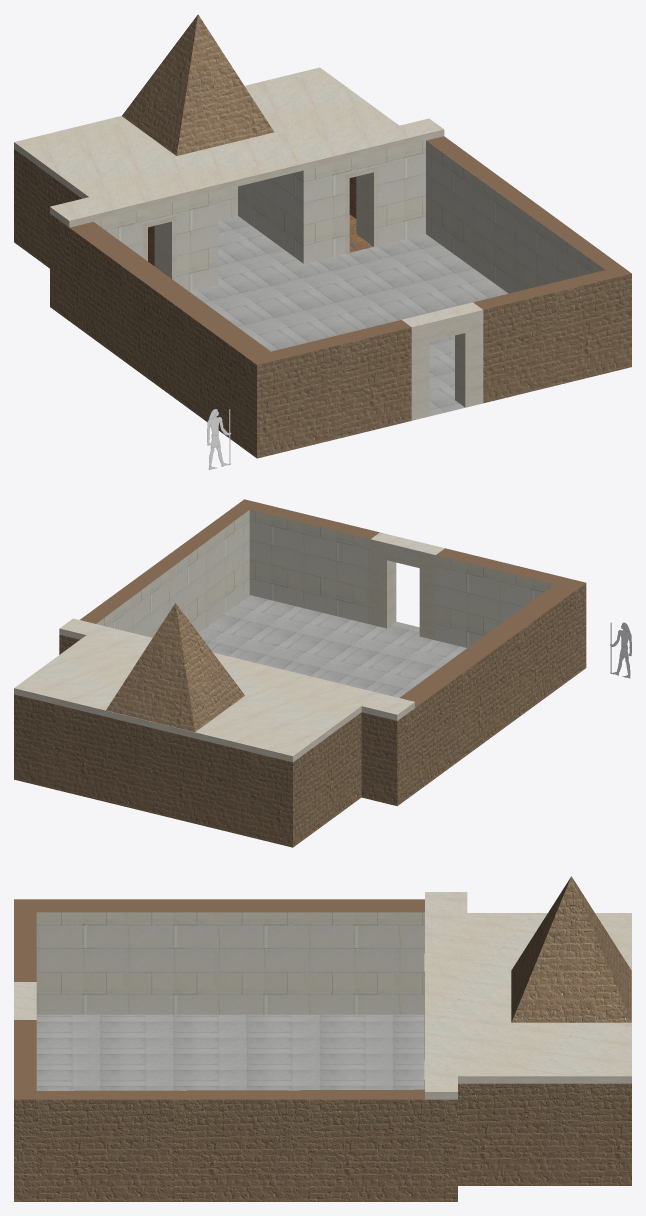
Rendered from Tomb3.obj.
The picture shows the model from 3 angles, top to bottom: view 1: azimuth 30°, elevation 25°; view 2: azimuth 150°, elevation 25°; view 3: azimuth 270°, elevation 25°; orthographic projection. The views are drawn at different scales.
Parts seen in each view (by area): view 1: Mesh2 Model, Mesh1 Component_4_1 Model, Mesh3 Model; view 2: Mesh2 Model, Mesh1 Component_4_1 Model, Mesh3 Model; view 3: Mesh2 Model, Mesh1 Component_4_1 Model.
Boxes of the visible parts, x1=… form: Mesh2 Model: x1=14, y1=67, x2=631, y2=458; Mesh1 Component_4_1 Model: x1=122, y1=14, x2=273, y2=155; Mesh3 Model: x1=207, y1=409, x2=231, y2=469; Mesh2 Model: x1=14, y1=499, x2=586, y2=847; Mesh1 Component_4_1 Model: x1=106, y1=603, x2=244, y2=731; Mesh3 Model: x1=610, y1=622, x2=631, y2=678; Mesh2 Model: x1=14, y1=892, x2=631, y2=1201; Mesh1 Component_4_1 Model: x1=511, y1=876, x2=631, y2=1022.
Bounding box in the file's own units: 11.89 × 5.62 × 13.68.
9 materials, 7 textured.
